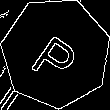P_NE: (26, 22, 85, 84)
